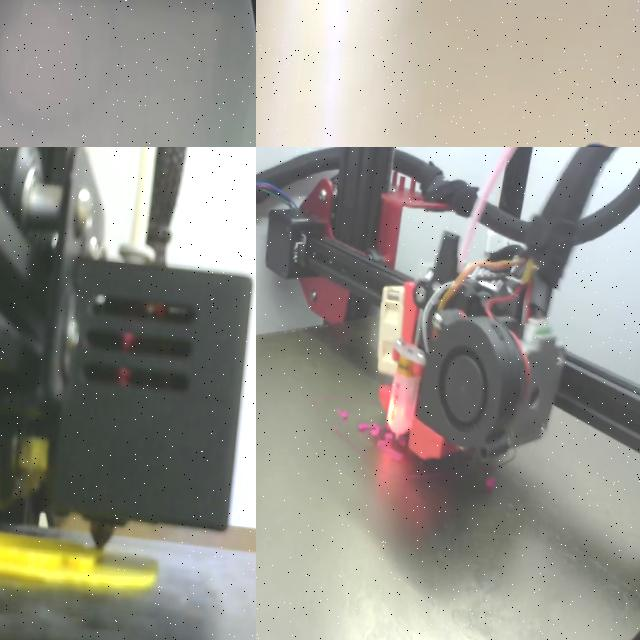spaghetti: (357, 421, 407, 460), (483, 475, 495, 493), (336, 409, 349, 420)
